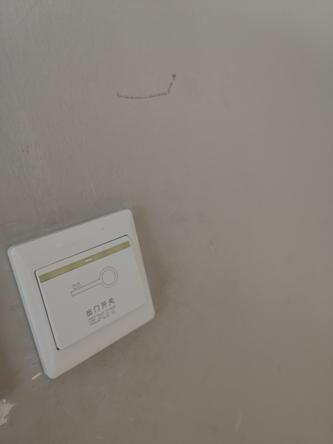switch: (31, 226, 148, 356)
